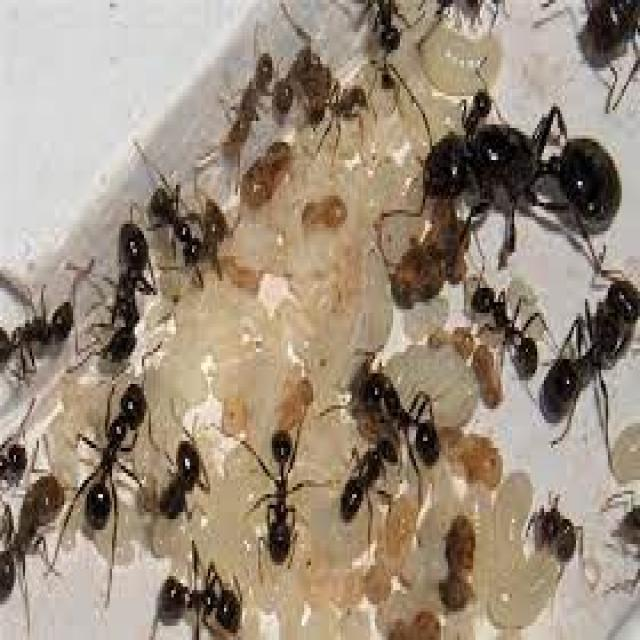ants: (424, 99, 619, 236), (535, 257, 640, 440), (72, 375, 166, 546), (0, 452, 66, 628), (357, 350, 448, 475), (139, 554, 253, 640), (252, 408, 309, 571), (97, 207, 155, 367), (462, 271, 543, 380), (216, 41, 280, 168), (0, 281, 86, 370), (149, 174, 211, 288), (331, 433, 402, 529), (151, 426, 213, 528)
